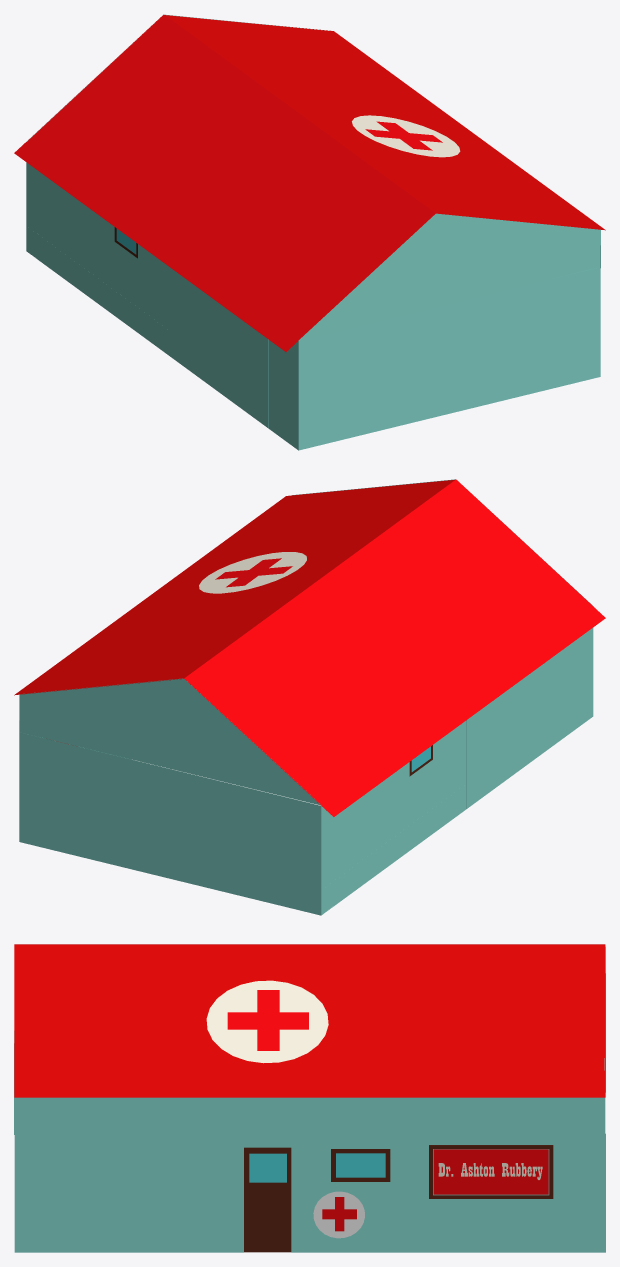
File: docOffice.fbx
3 views of the same model, one above another, from view 1: azimuth 30°, elevation 25°; view 2: azimuth 150°, elevation 25°; view 3: azimuth 270°, elevation 25° (orthographic). The views are drawn at different scales.
Parts seen in each view (by area): view 1: doc.069, doc.004, doc.070, doc.072, doc.003, doc.067, doc.068, doc.076, doc.074; view 2: doc.069, doc.002, doc.070, doc.073, doc.003, doc.067, doc.068, doc.076, doc.074; view 3: doc.070, doc.017, doc.071, doc.076, doc.025, doc.066, doc.074, doc.077, doc.060, doc, doc.008, doc.006 (+4 smaller).
Boxes of the visible parts, x1,y1,x2,y2 form: doc.069: [14, 14, 435, 351]; doc.004: [298, 267, 600, 450]; doc.070: [165, 15, 605, 230]; doc.072: [298, 213, 600, 340]; doc.003: [26, 162, 298, 450]; doc.067: [171, 268, 268, 427]; doc.068: [27, 227, 171, 356]; doc.076: [352, 115, 460, 157]; doc.074: [365, 121, 442, 150]; doc.069: [184, 479, 605, 816]; doc.002: [19, 732, 321, 915]; doc.070: [14, 479, 455, 695]; doc.073: [19, 678, 321, 805]; doc.003: [321, 628, 593, 915]; doc.067: [466, 650, 563, 808]; doc.068: [322, 784, 466, 913]; doc.076: [199, 552, 306, 593]; doc.074: [215, 558, 292, 587]; doc.070: [14, 944, 605, 1097]; doc.017: [14, 1133, 605, 1252]; doc.071: [14, 1093, 605, 1134]; doc.076: [206, 980, 328, 1063]; doc.025: [433, 1149, 548, 1194]; doc.066: [244, 1147, 291, 1252]; doc.074: [227, 990, 308, 1050]; doc.077: [207, 981, 327, 1062]; doc.060: [429, 1145, 553, 1198]; doc: [313, 1191, 364, 1238]; doc.008: [336, 1153, 385, 1177]; doc.006: [249, 1153, 286, 1182].
Size of the model in its own units: 305 by 186 by 450.
